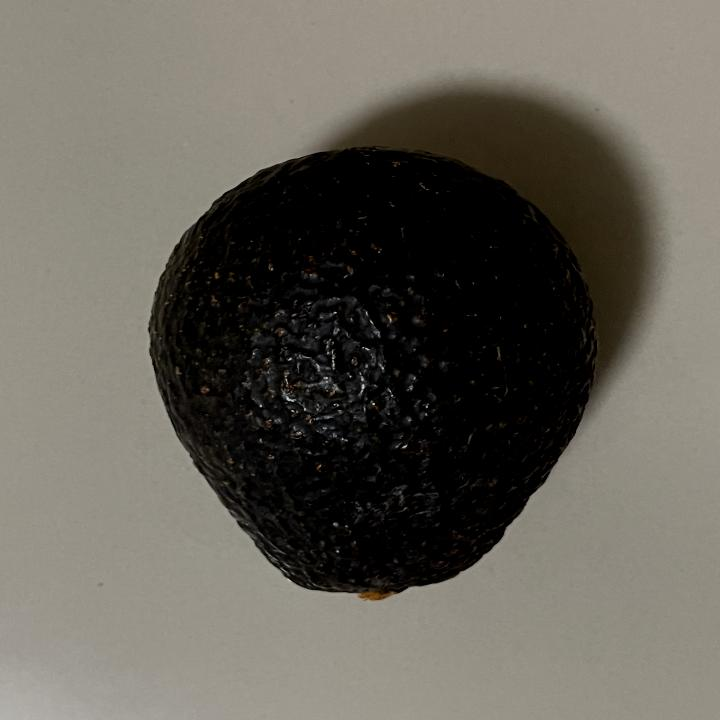Level2: (142, 141, 608, 612)
